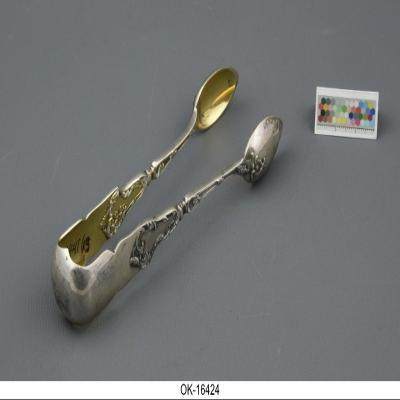dpi: (52, 68, 282, 327)
